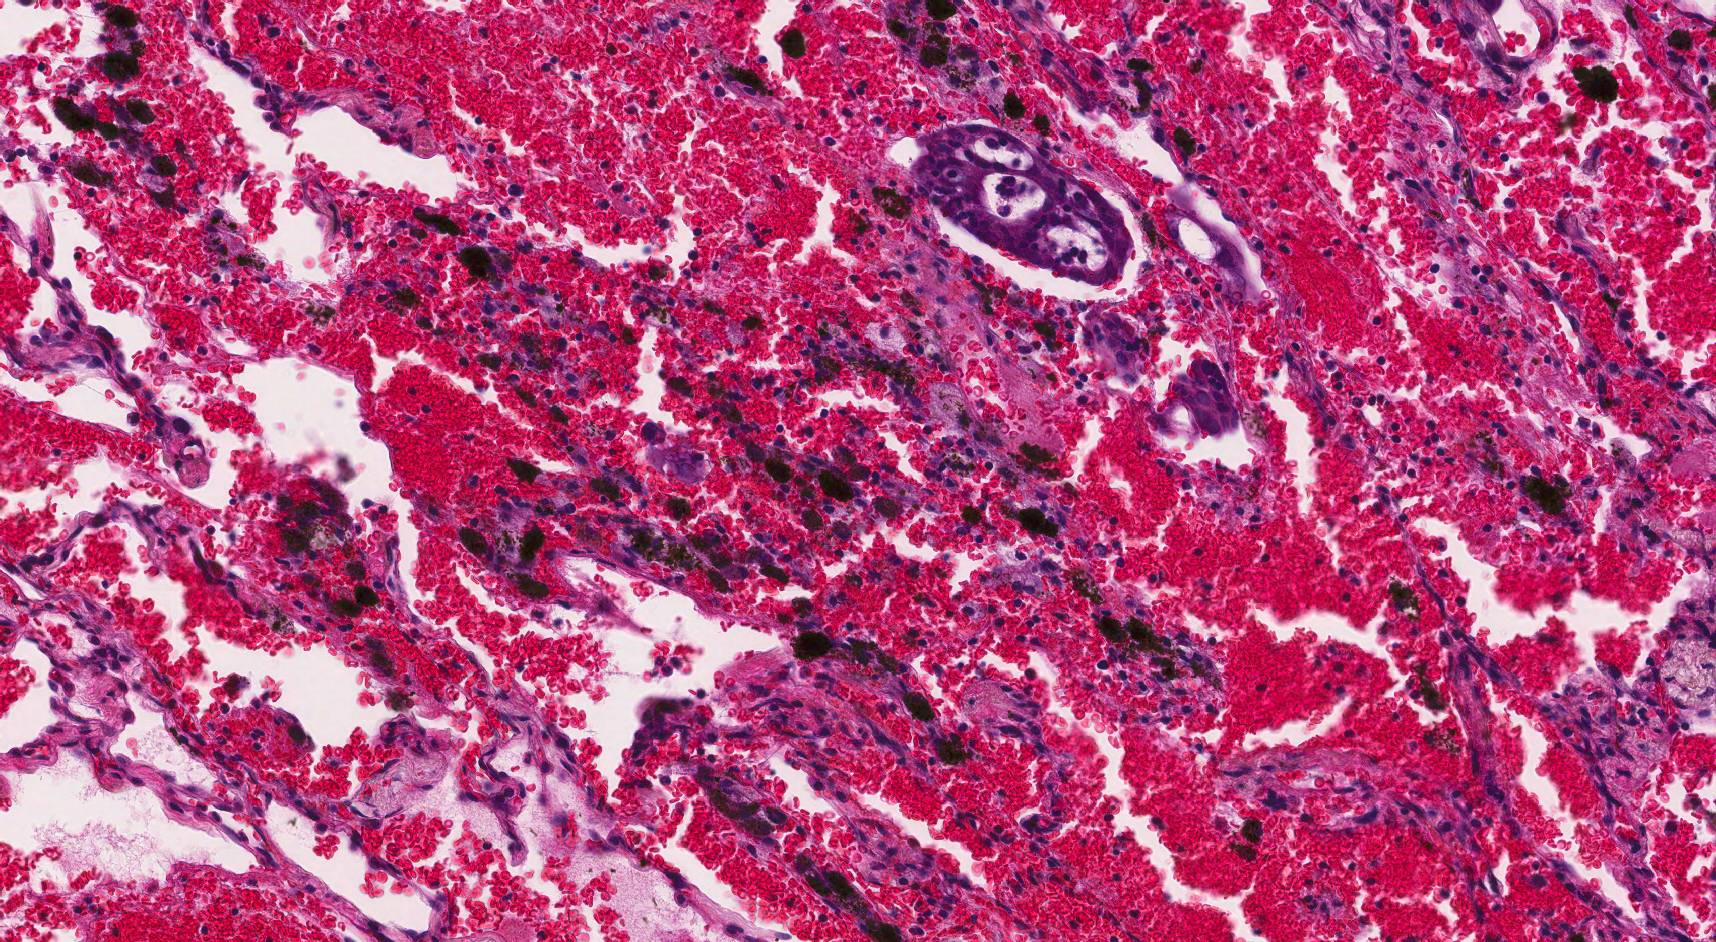stas: (911, 123, 1133, 284), (1171, 354, 1243, 438)
